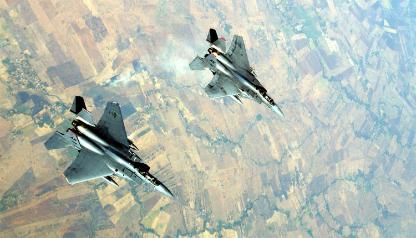F117: (42, 95, 174, 197), (188, 27, 286, 116)
